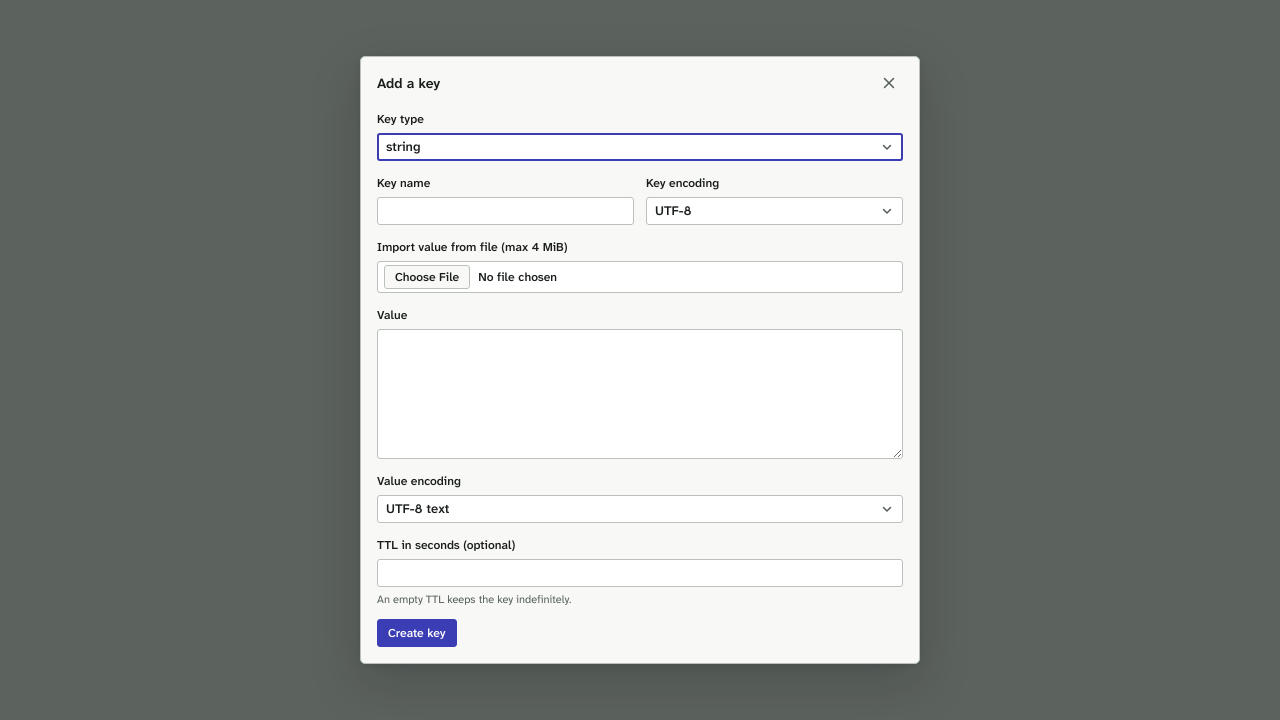
Test: web review round 1: Create key never changes an existing key (H2) › a hash created between the check and the write keeps its field (HSETNX)
This screenshot has width=1280, height=720.
Select "hash" in the dropdown with test id "key-create-type" at (640, 147), box [377, 133, 903, 161]
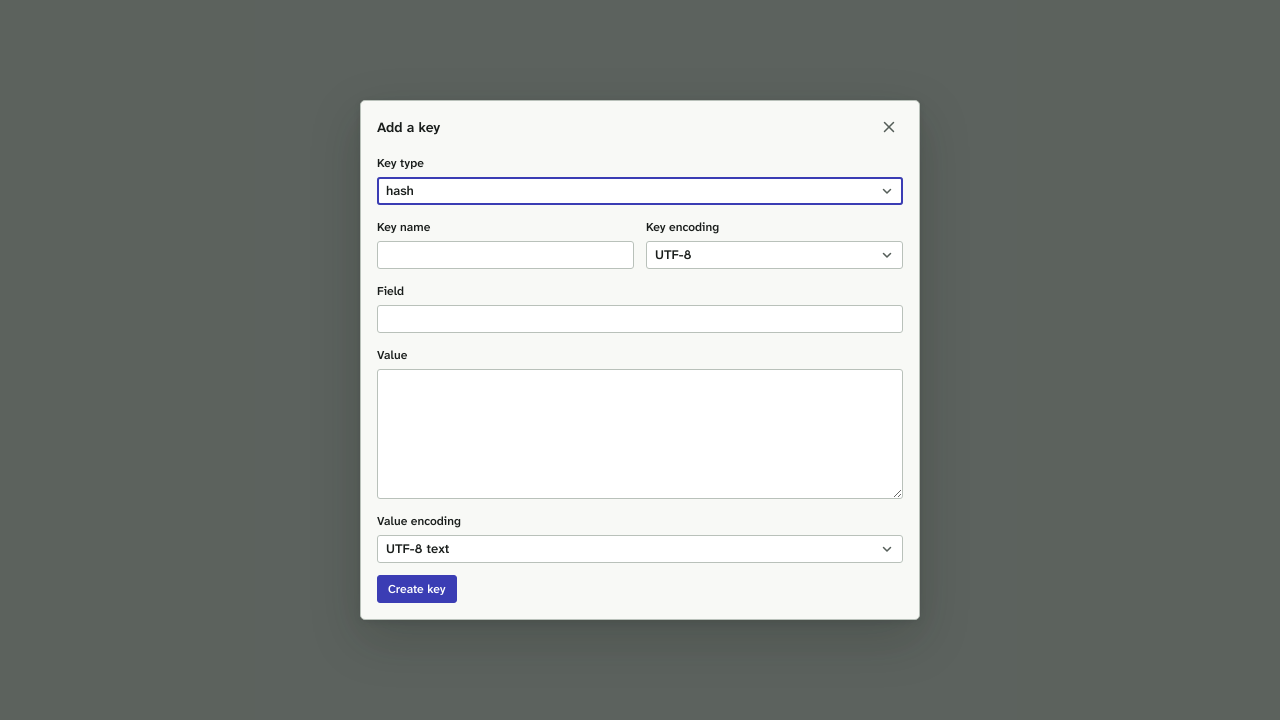
Type "k" into the field with test id "key-create-name".
click(506, 255); type("k")  # box [377, 241, 634, 269]
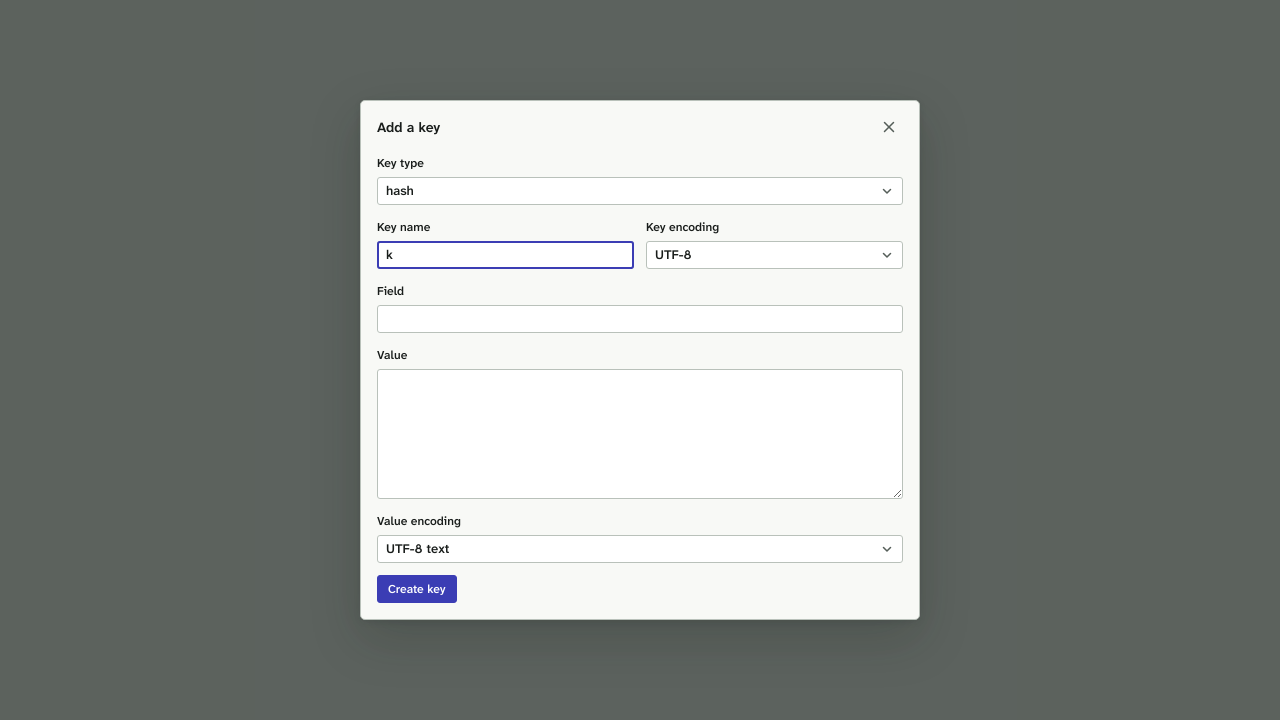
Type "f" into the field with test id "key-edit-field".
click(640, 319); type("f")  # box [377, 305, 903, 333]
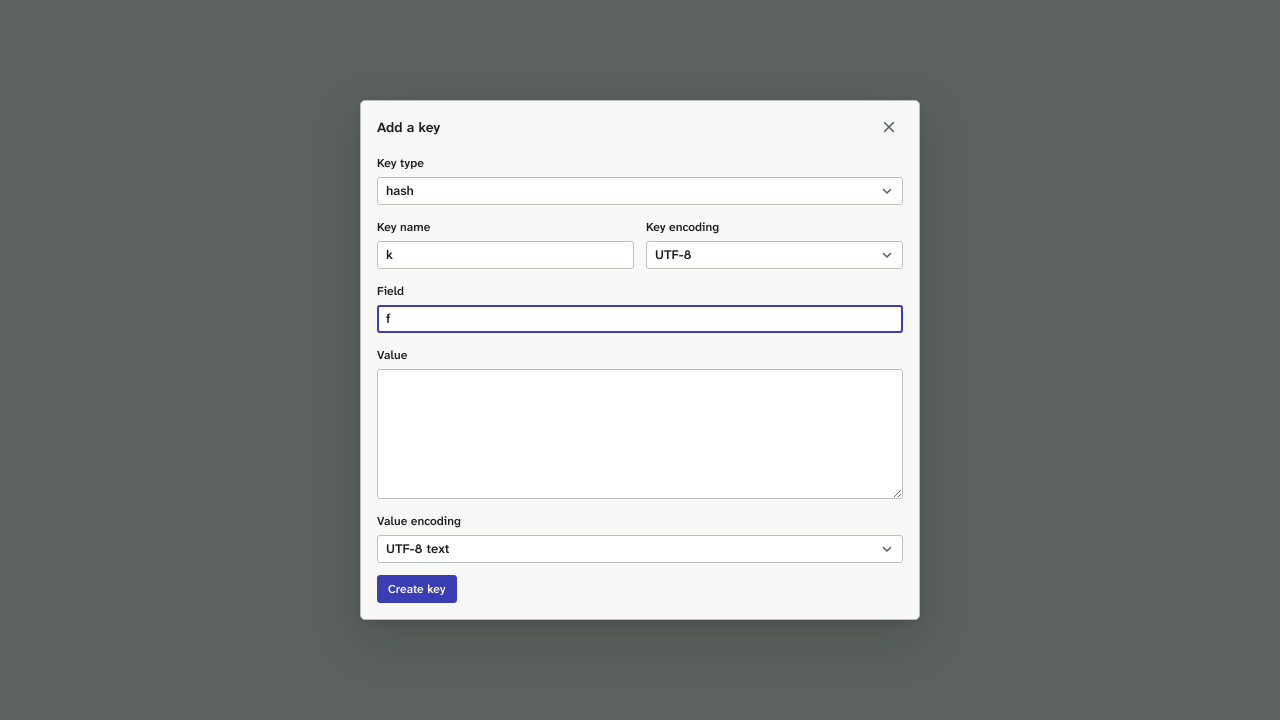
Type "v" into the text box with test id "key-edit-value".
click(640, 434); type("v")  # box [377, 369, 903, 499]
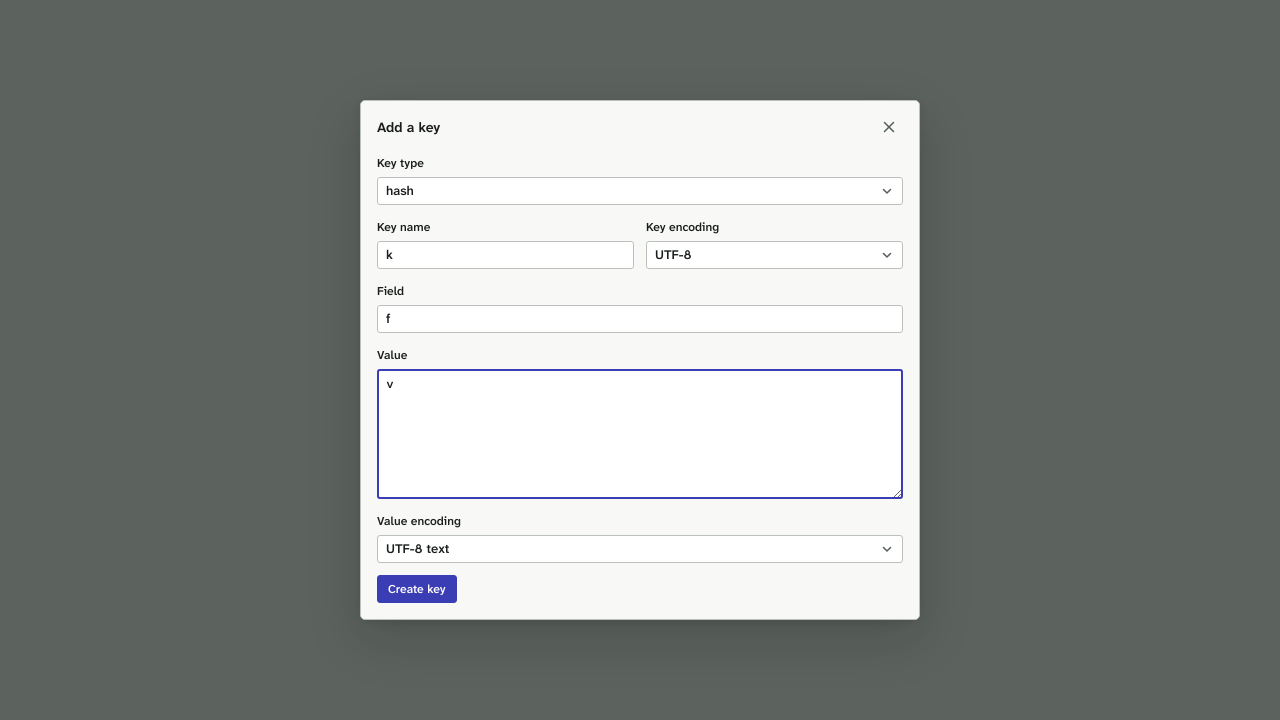
Click the button with test id "key-save".
click(417, 589)  # box [377, 575, 457, 603]
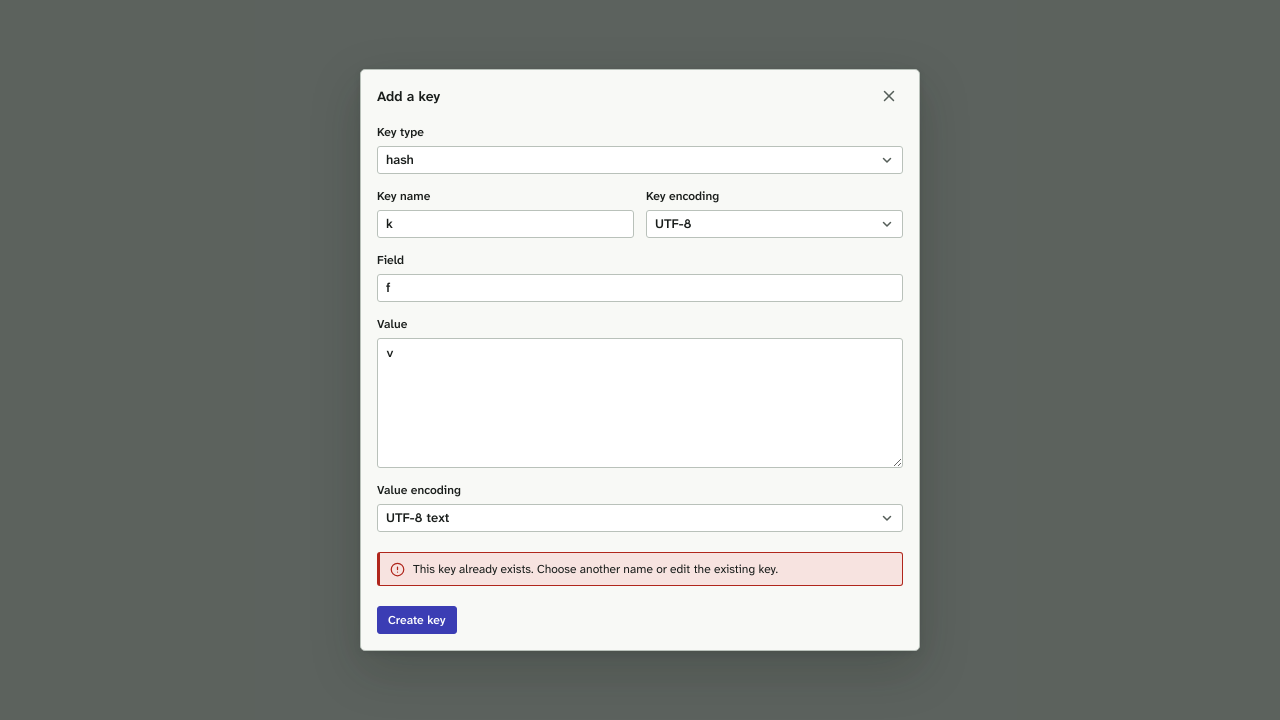
Result: the message shows "This key already exists" at [413, 561, 778, 577]
